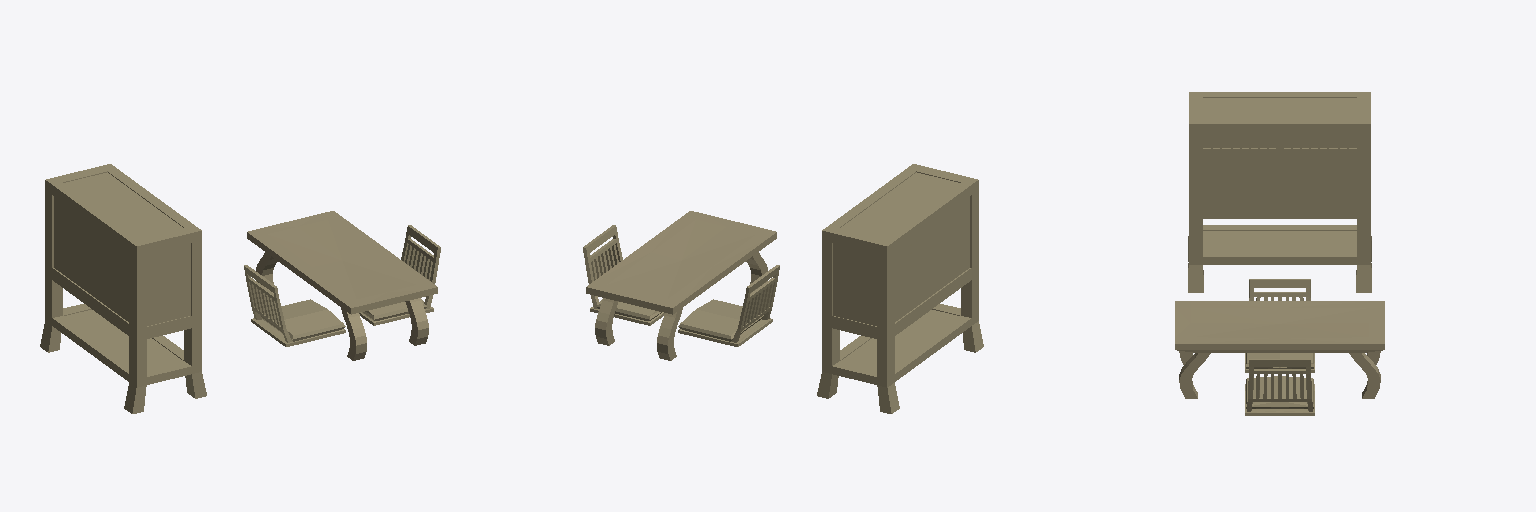
File: desk.obj
The picture shows the model from 3 angles: view 1: azimuth 30°, elevation 25°; view 2: azimuth 150°, elevation 25°; view 3: azimuth 270°, elevation 25°; orthographic projection.
Parts seen in each view (by area): view 1: Cube.001_Cube, Cube_Cube.001, Cube.002_Cube.005, Cube.003_Cube.006; view 2: Cube.001_Cube, Cube_Cube.001, Cube.002_Cube.005, Cube.003_Cube.006; view 3: Cube.001_Cube, Cube_Cube.001, Cube.003_Cube.006, Cube.002_Cube.005.
Part boxes in pixels (x1,y1,x2,y2): Cube.001_Cube: (40,164,206,413); Cube_Cube.001: (247,211,437,360); Cube.002_Cube.005: (244,265,345,346); Cube.003_Cube.006: (359,225,440,325); Cube.001_Cube: (817,164,983,413); Cube_Cube.001: (586,211,776,360); Cube.002_Cube.005: (678,265,779,346); Cube.003_Cube.006: (583,225,664,325); Cube.001_Cube: (1188,92,1371,292); Cube_Cube.001: (1175,301,1384,398); Cube.003_Cube.006: (1245,359,1314,415); Cube.002_Cube.005: (1245,279,1314,372).
Bounding box in the file's own units: 23.8 × 11.14 × 12.69.